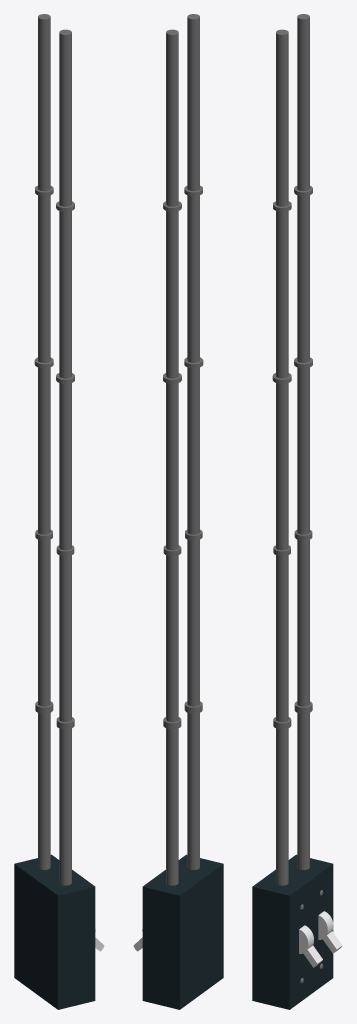
The model's file is Basement_Switch.fbx.
The picture shows the model from 3 angles, left to right: view 1: azimuth 30°, elevation 25°; view 2: azimuth 150°, elevation 25°; view 3: azimuth 330°, elevation 25°; orthographic projection.
Parts seen in each view (by area): view 1: 큐브; view 2: 큐브; view 3: 큐브.
Boxes of the visible parts, x1=… form: 큐브: x1=14, y1=14, x2=104, y2=1009; 큐브: x1=133, y1=14, x2=223, y2=1009; 큐브: x1=252, y1=14, x2=342, y2=1009.
Bounding box in the file's own units: 1.62 × 26.76 × 2.2.
